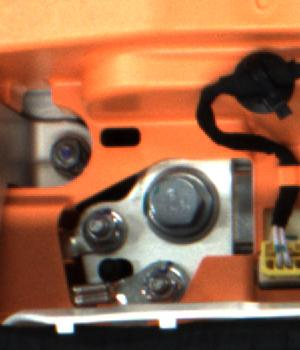nut_b: (144, 158, 218, 247)
